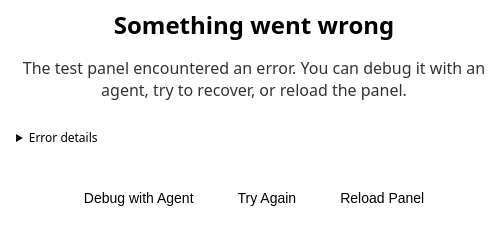
ErrorBoundary › opens a diagnostic child chat from the render fallback
Click the button "Debug with Agent": x=139, y=198 [68, 182, 210, 214]
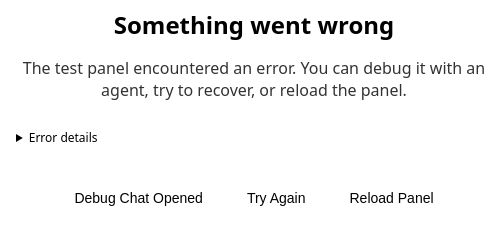
Expected: the button "Debug Chat Opened" is shown, [58, 182, 219, 214]
